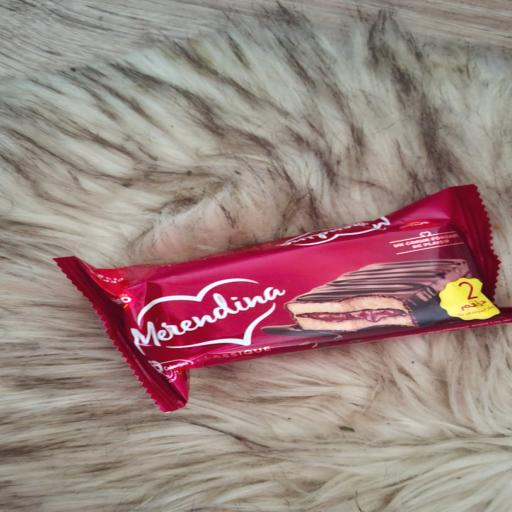merendina: (67, 171, 512, 425)
